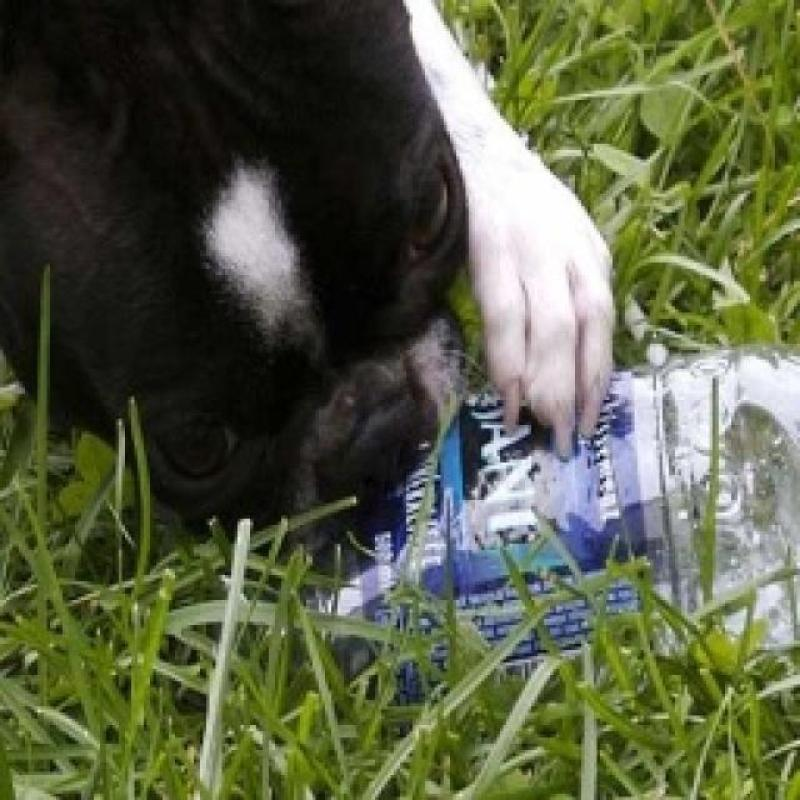botella: (281, 346, 800, 702)
